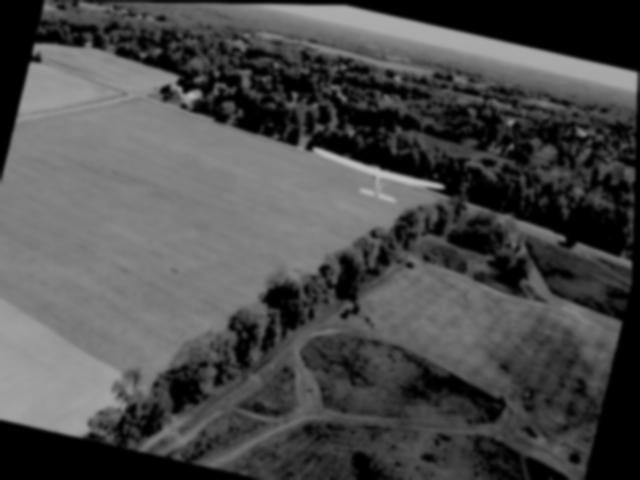hedef: (295, 131, 474, 233)
